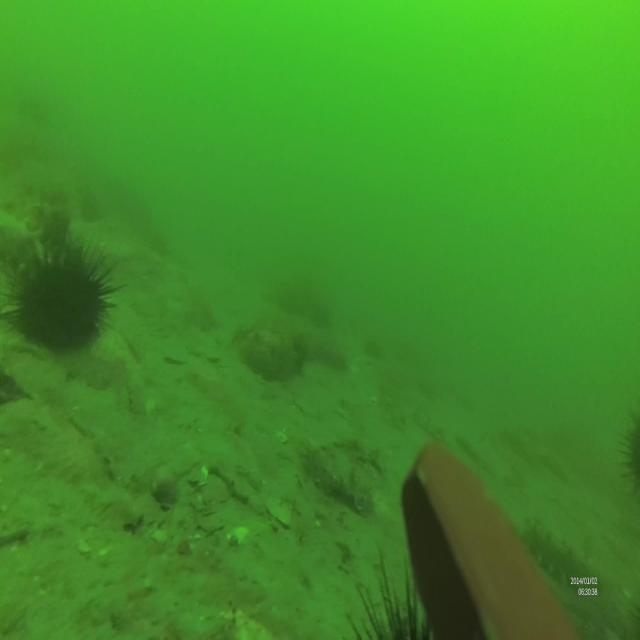echinus: (0, 240, 126, 361), (346, 560, 439, 640), (621, 394, 640, 508)
holothurian: (524, 518, 596, 586)
